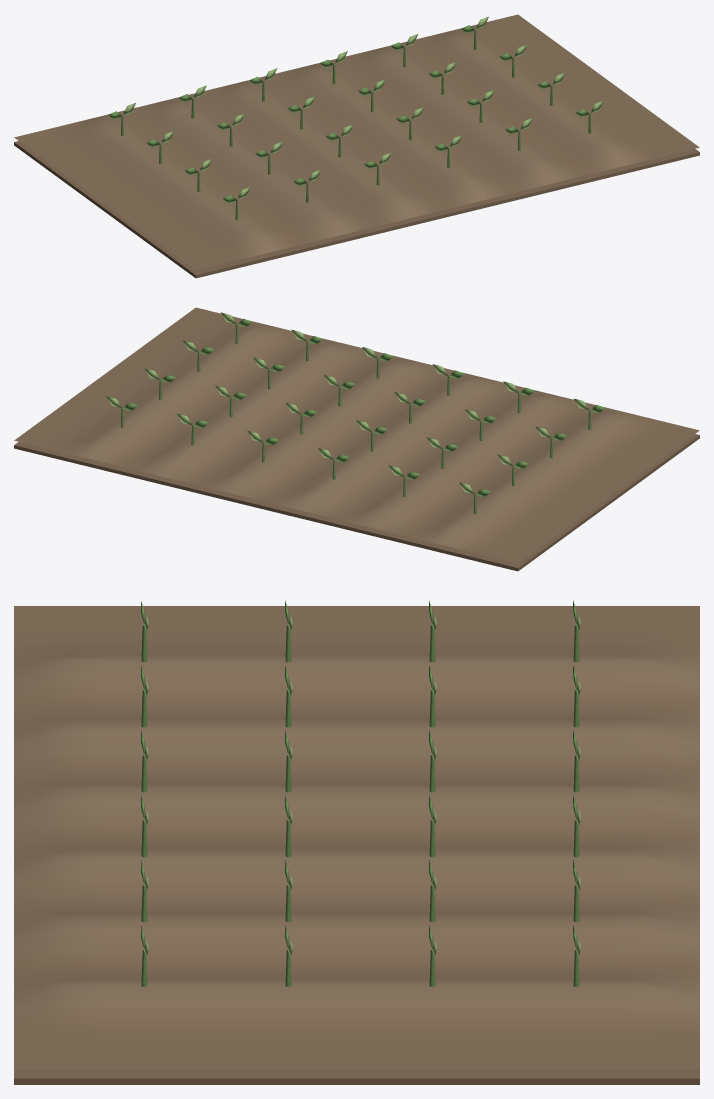
The model's file is field_stage2_low.glb.
3 renders of one model, top to bottom at view 1: azimuth 30°, elevation 25°; view 2: azimuth 150°, elevation 25°; view 3: azimuth 270°, elevation 25°, orthographic. The views are drawn at different scales.
Size of the model in its own units: 8 by 0.665 by 5.
